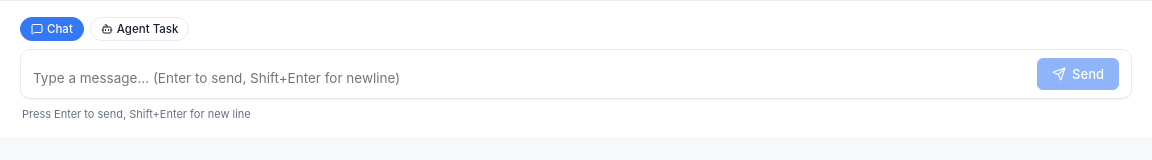
Scenario: Renderer: ConversationComposer (Agent Task Mode & Permissions) › sends ordinary chat message via onSend in Chat mode
The width and height of the screenshot is (1152, 160).
Later steps or results of the test are not shown.
Type "Hello assistant" into the text box with test id "message-input" at (530, 78), box 33,66 -> 1027,90
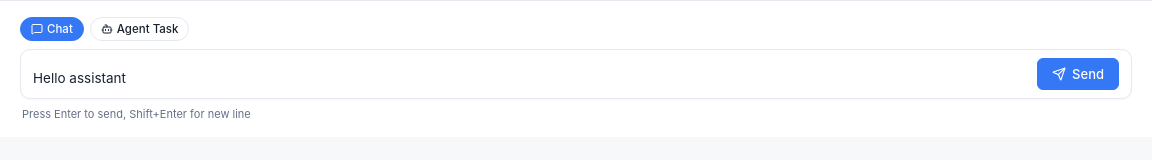
expect the button with test id "send-message-btn" is enabled: met, box 1037,58 -> 1119,90
